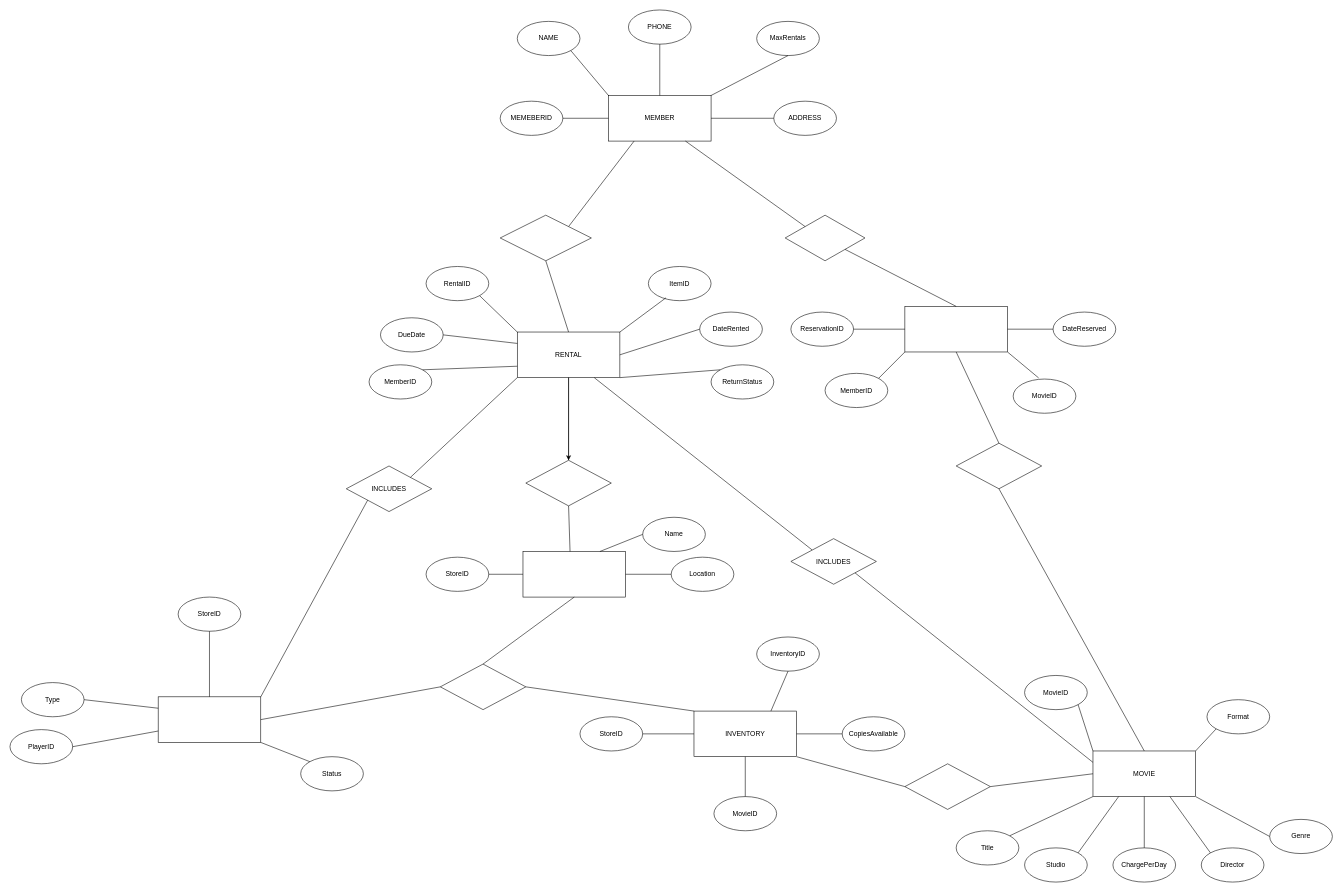
The diagram is 1342 pixels wide and 892 high, and some of its shapes have lost their labels. The shapes that lost their labels are listed below. From the top down, each one's box as (x1, y1, x2, y2) in pixels, then its label:
(500, 215, 591, 261): RENTS
(785, 215, 865, 261): MAKES
(904, 306, 1007, 352): RESERVATION
(525, 460, 611, 506): FROM
(956, 443, 1042, 489): for
(522, 551, 626, 597): STORE
(440, 663, 526, 710): HAS
(158, 696, 261, 742): PLAYER
(904, 763, 990, 809): TRACKS
